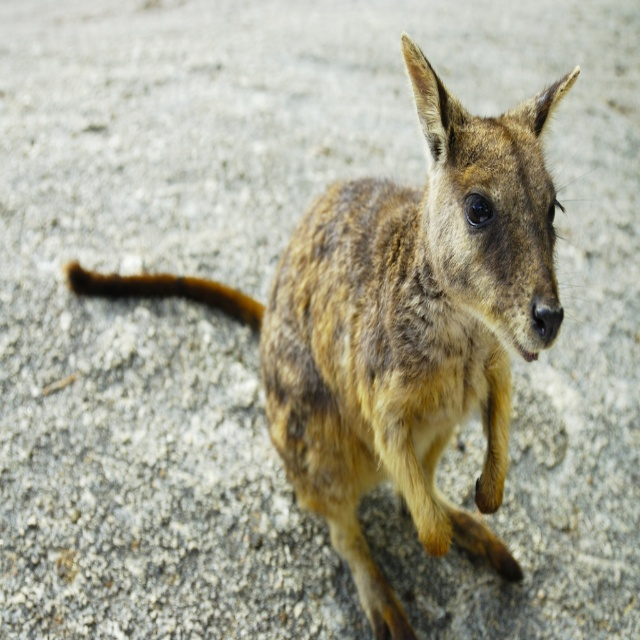Kangaroo: (66, 33, 580, 639)
